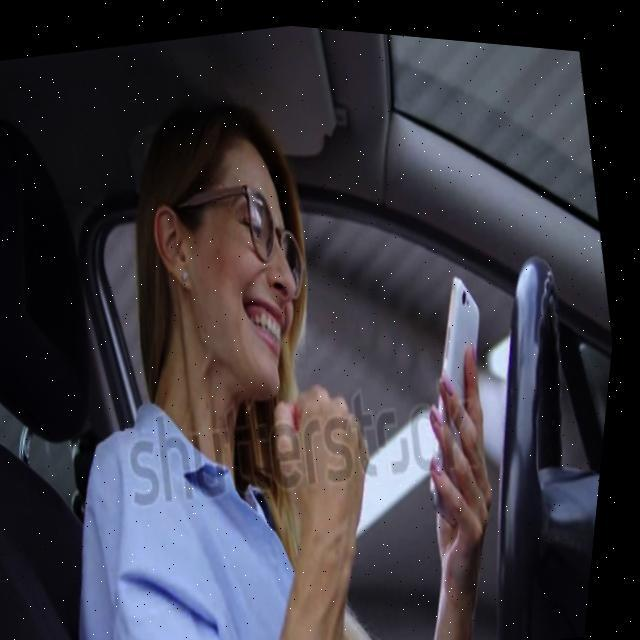PhoneCall: (396, 254, 531, 518)
